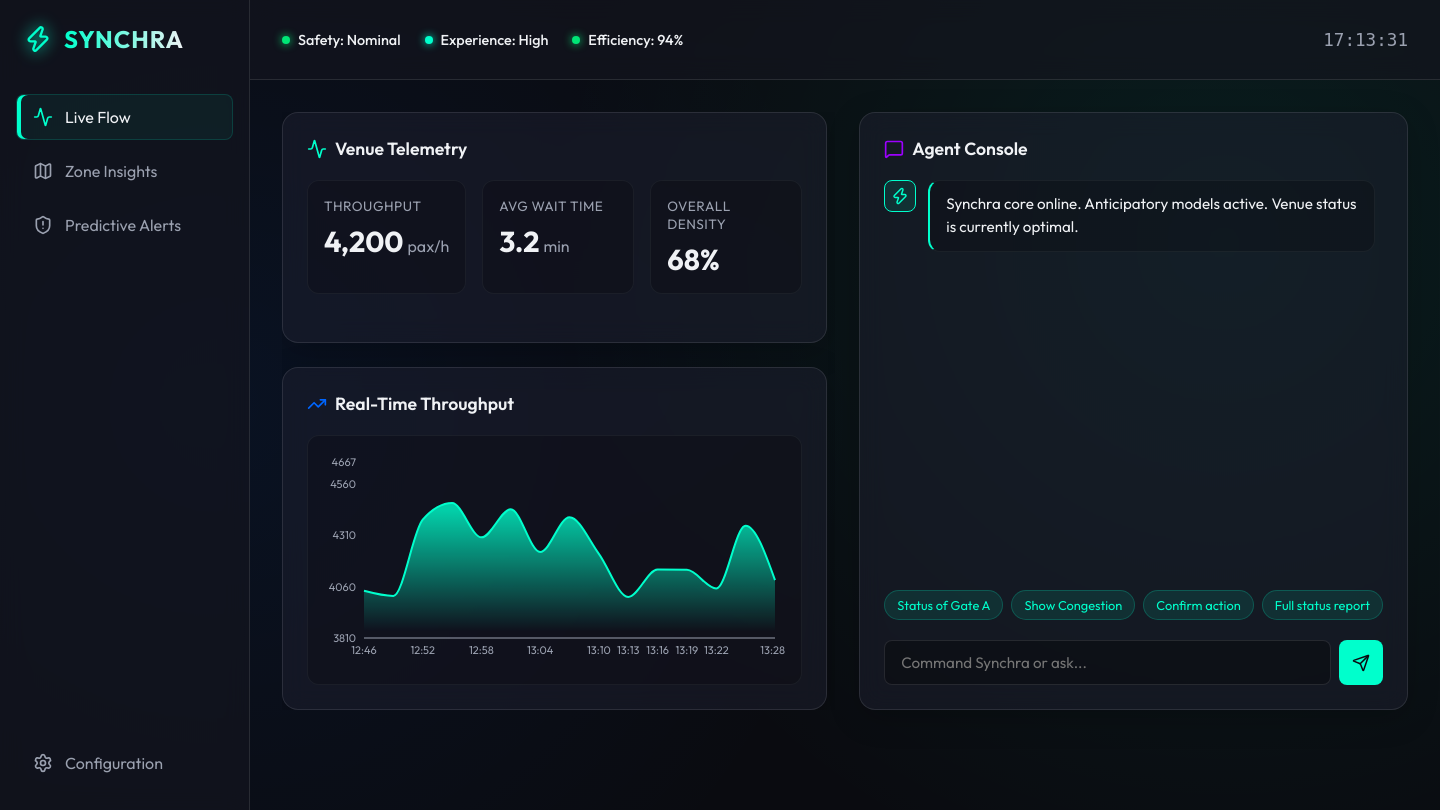
Test: Synchra App – Tab Navigation › switches back to Live Flow from alerts
Click the button "Predictive Alerts".
click(124, 225)  # box [16, 202, 233, 248]
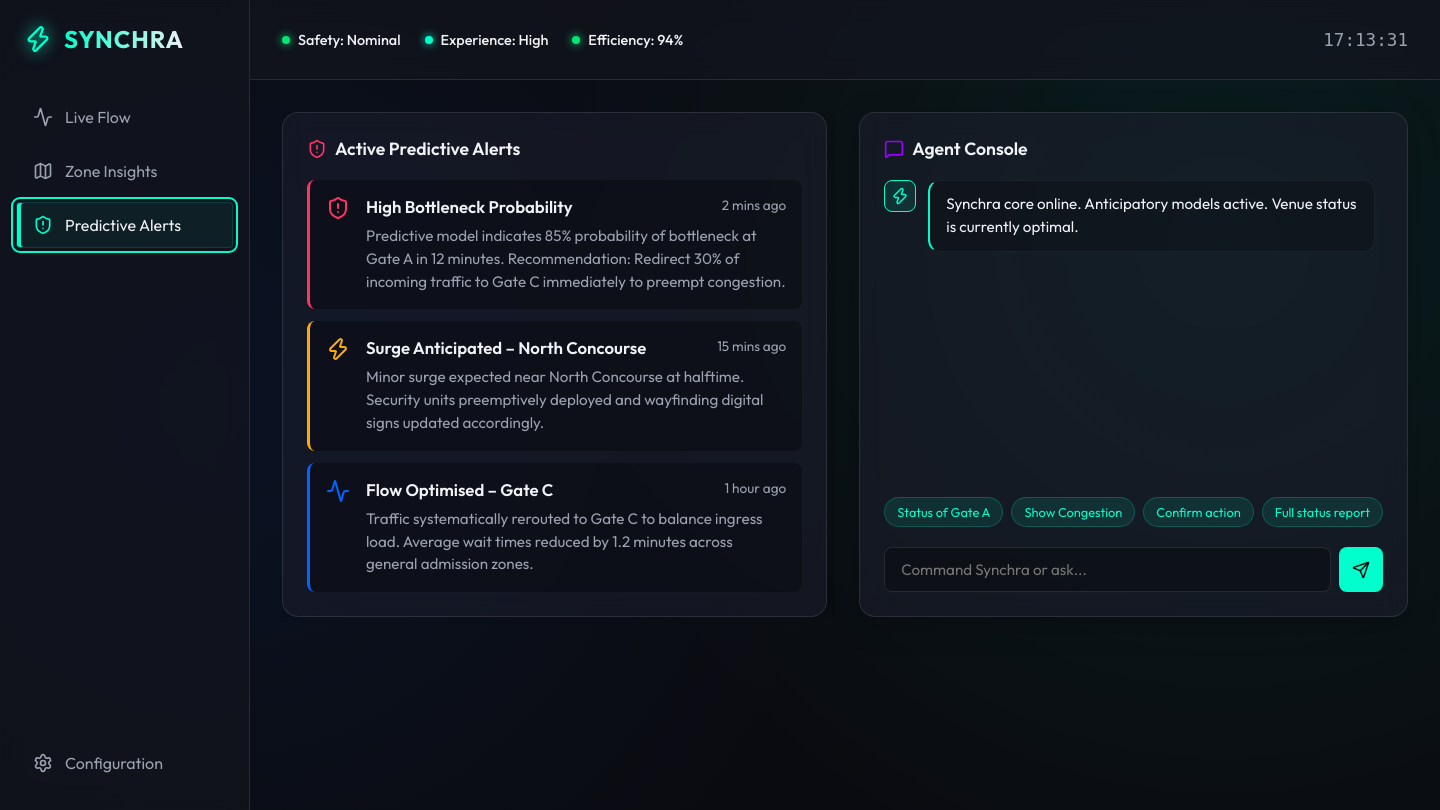
Click the button "Live Flow".
click(124, 117)  # box [16, 94, 233, 140]
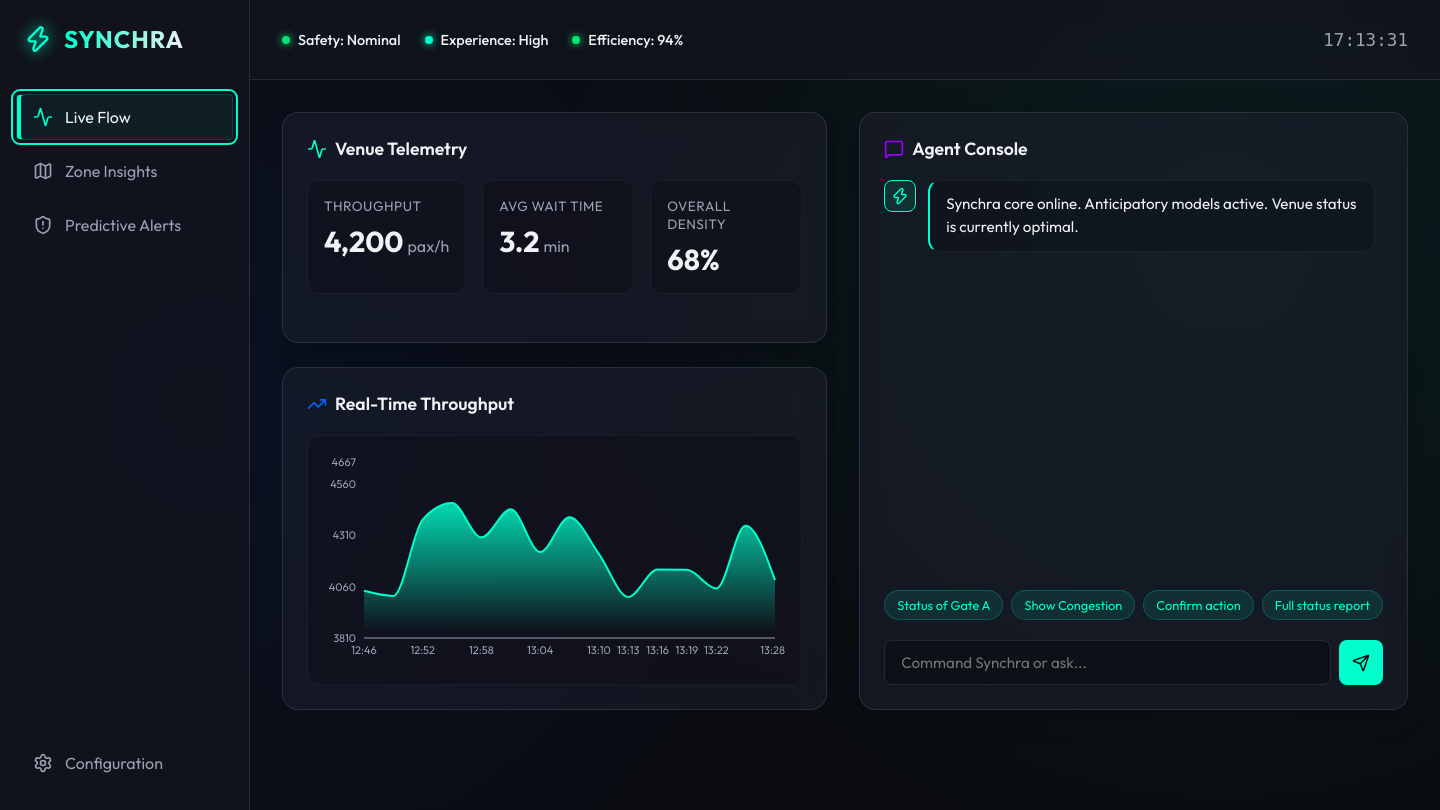
expect the text "Venue Telemetry" is shown: met, box [307, 137, 467, 160]
